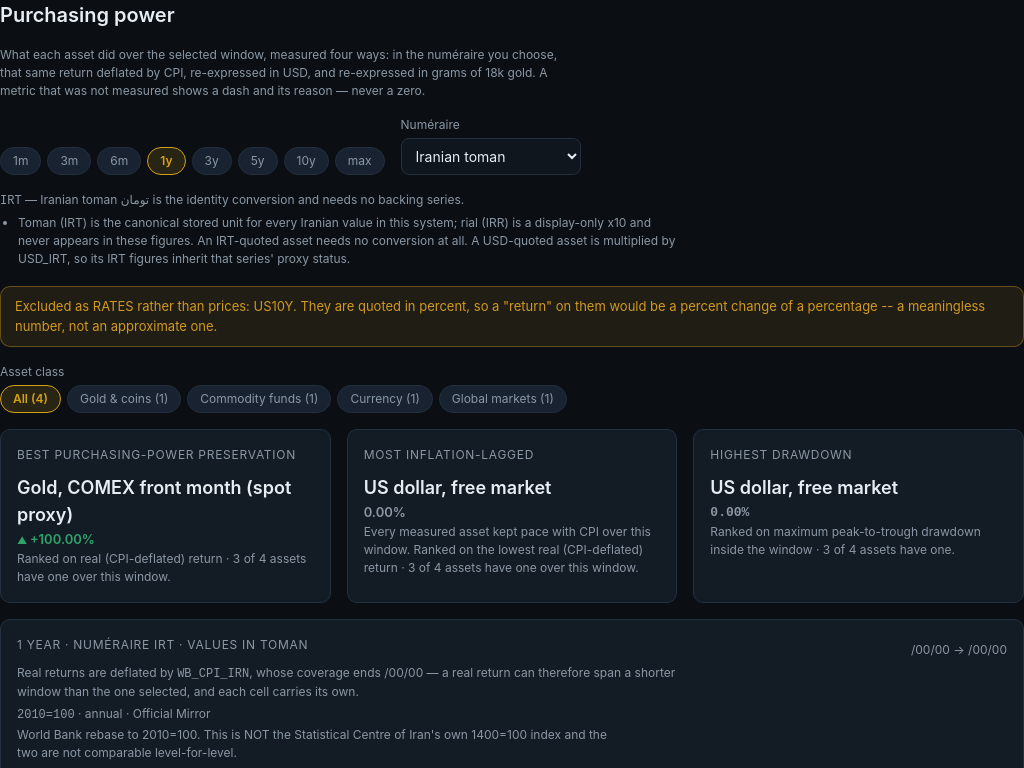
Test case: Markets — the Value column is denominated in the SELECTED numéraire › shows grams for numéraire GOLD, keeping the fractions a gram count needs
Step 1. Select "Grams of 18k gold" in the dropdown labelled "Numéraire" → (491, 156), box [401,138,581,175]
(page scrolled)
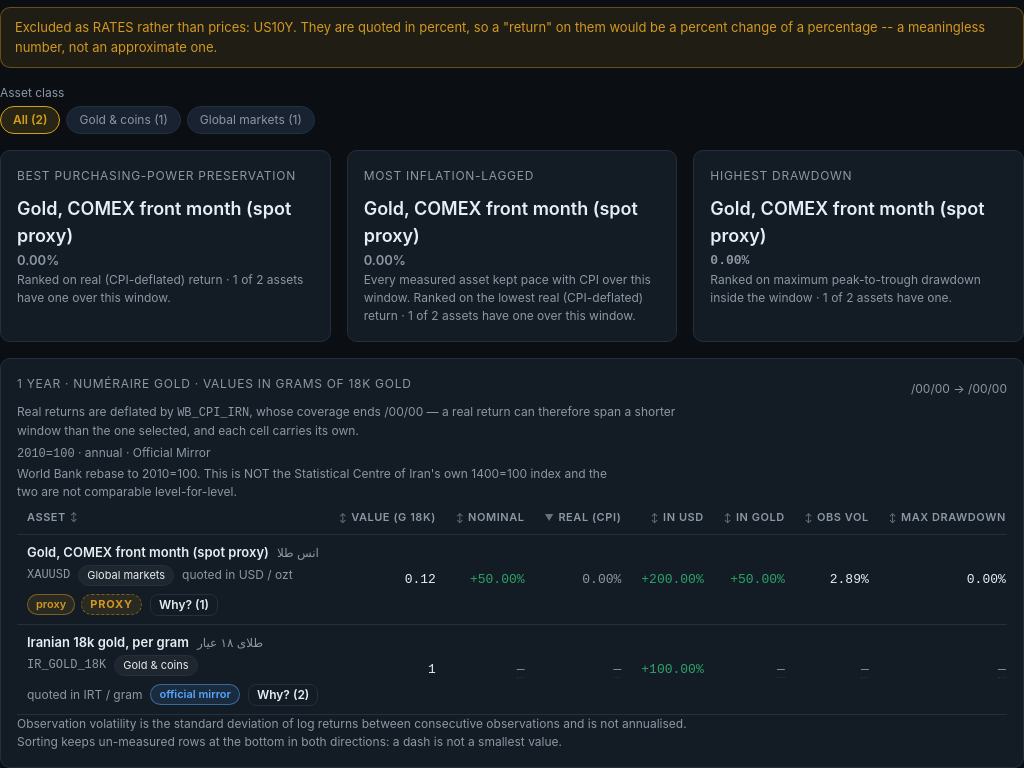
expect the cell "1" is shown: met, box [329,624,446,714]
expect the column heading "Value (g 18k) ↕" is shown: met, box [329,500,446,534]
